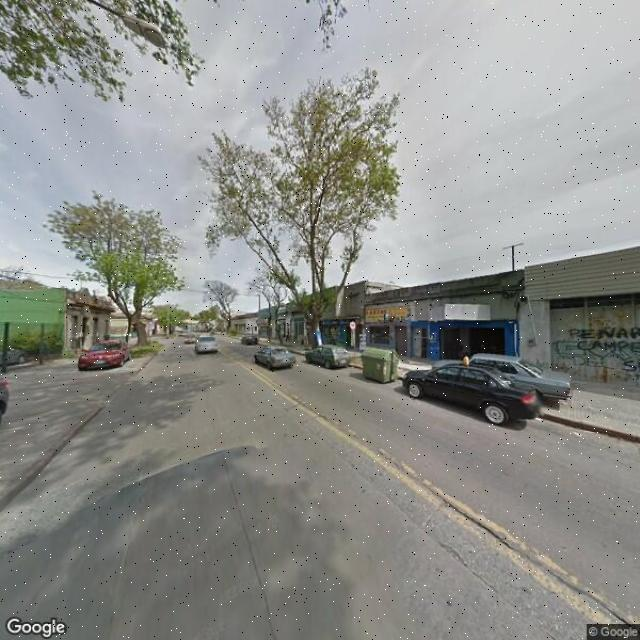garbage container: (356, 339, 406, 388)
